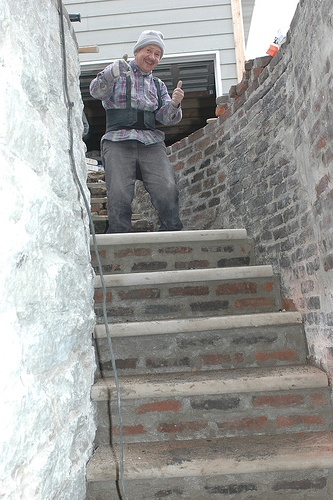stairs_up: (74, 229, 333, 489)
